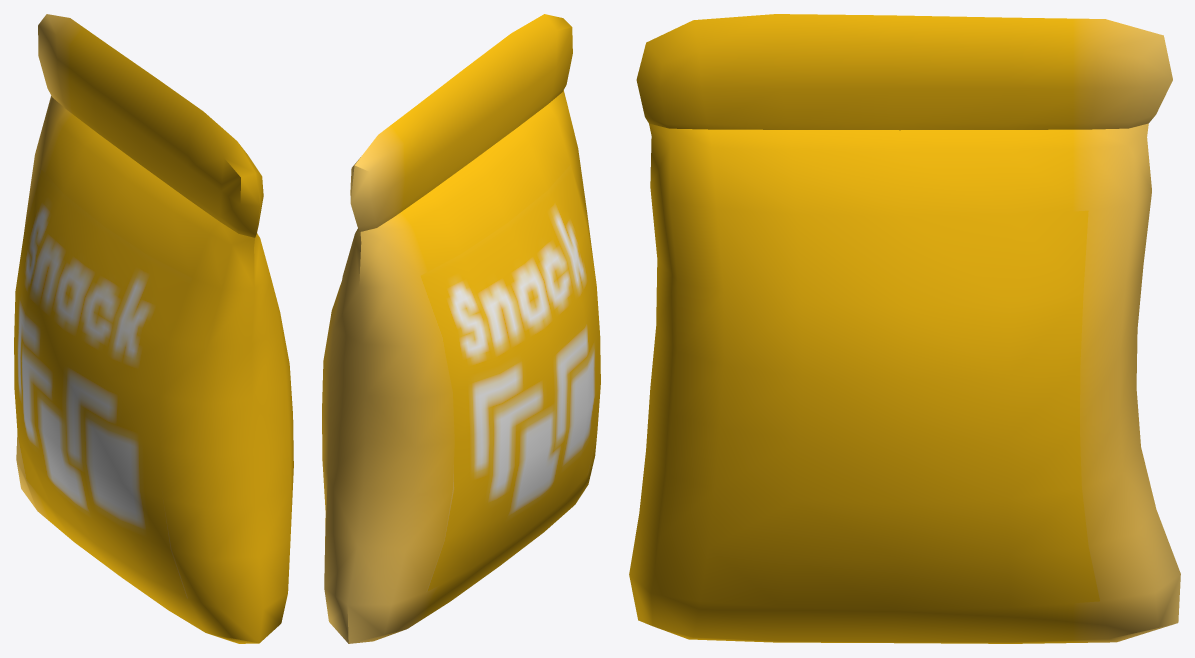
File: Snack05.fbx
3 renders of one model, left to right at view 1: azimuth 30°, elevation 25°; view 2: azimuth 150°, elevation 25°; view 3: azimuth 270°, elevation 25°, orthographic. The views are drawn at different scales.
Parts seen in each view (by area): view 1: Snack05; view 2: Snack05; view 3: Snack05.
Part boxes in pixels (left/top/right/bottom): Snack05: left=14, top=14, right=293, bottom=643; Snack05: left=322, top=14, right=600, bottom=643; Snack05: left=629, top=14, right=1180, bottom=643.
Bounding box in the file's own units: 0.0539 × 0.1119 × 0.1409.
